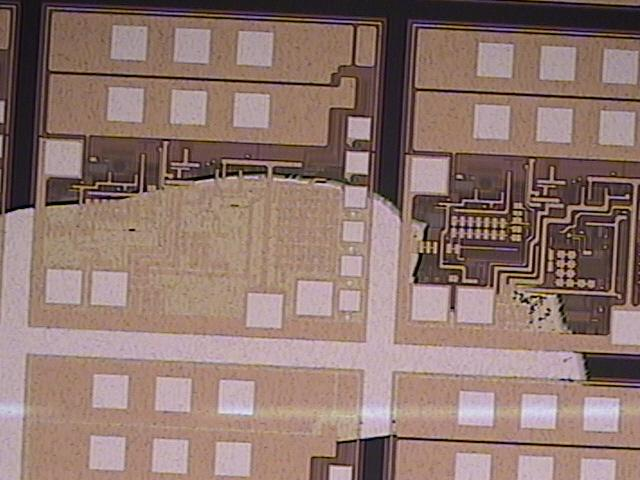BLOCK ETCH: (1, 173, 640, 480)
